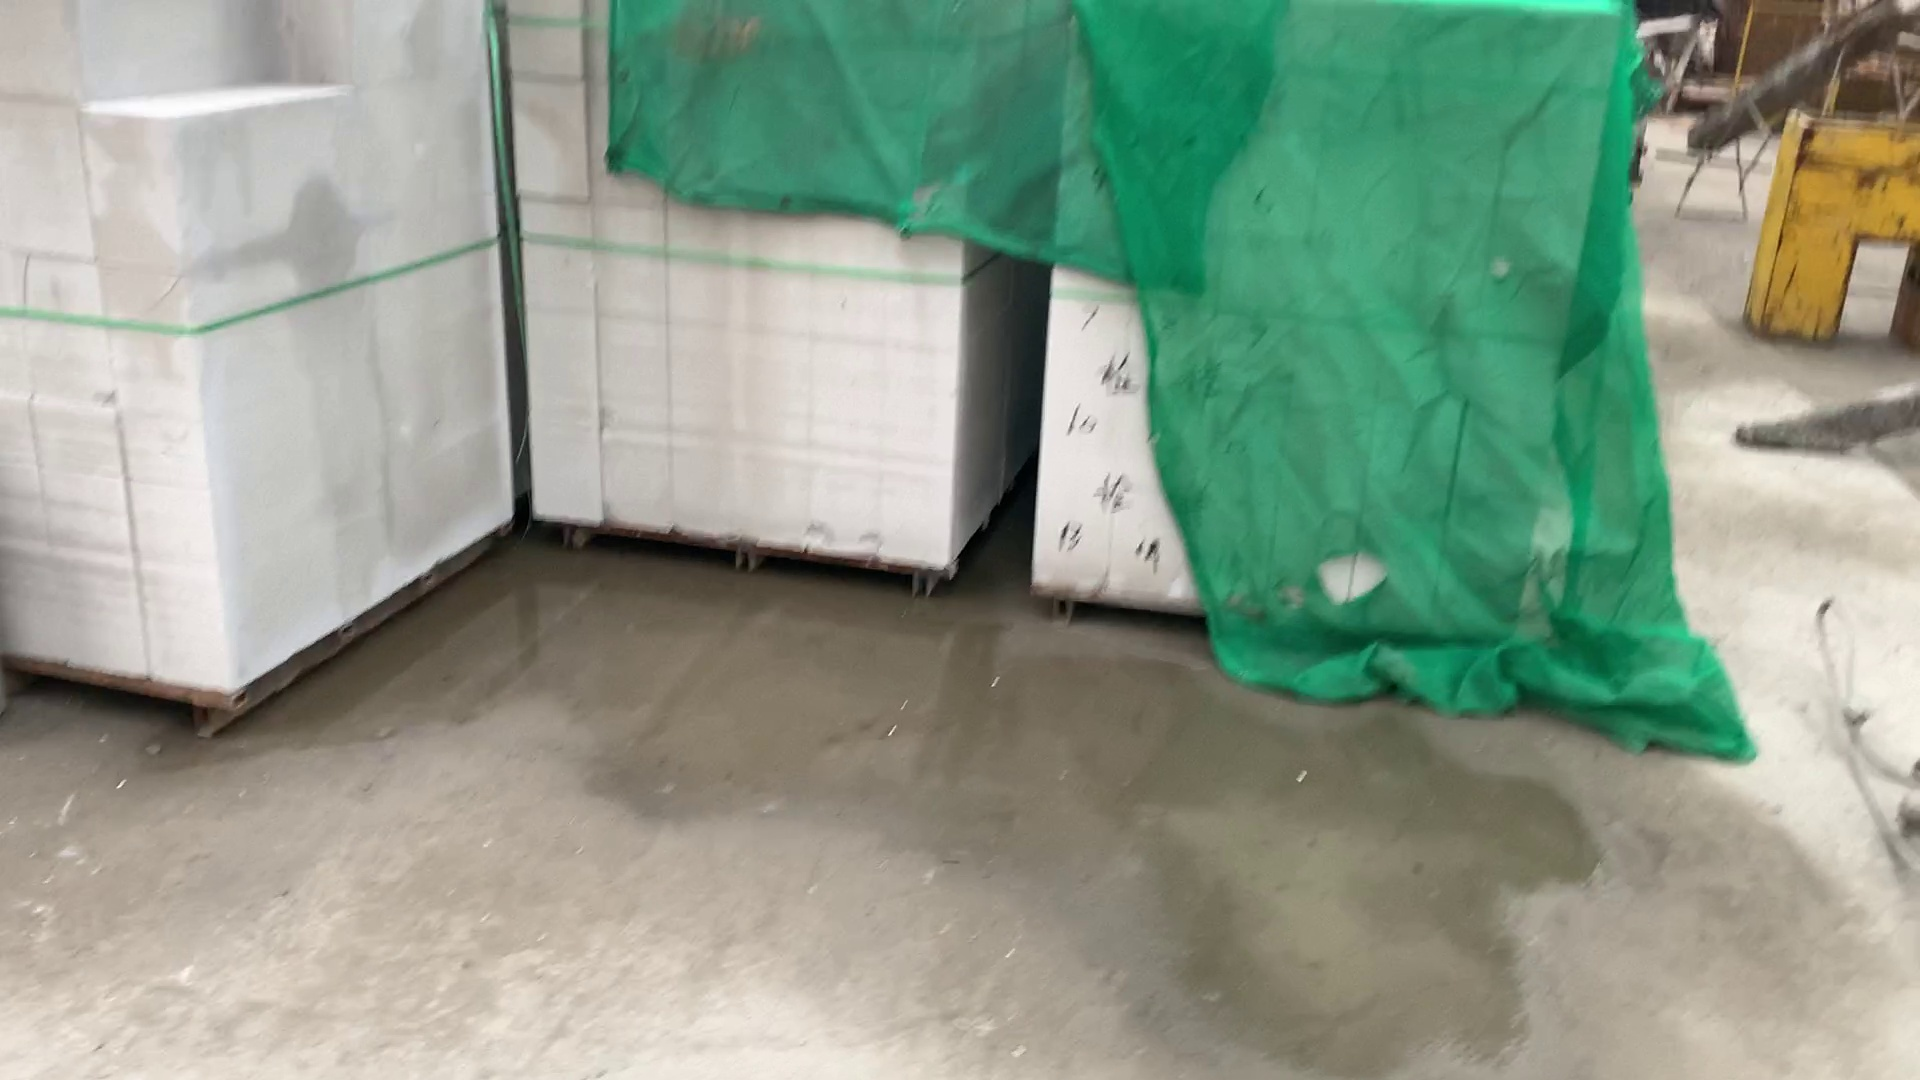brickwork: (3, 4, 510, 727), (1043, 11, 1615, 626), (510, 8, 1022, 582)
